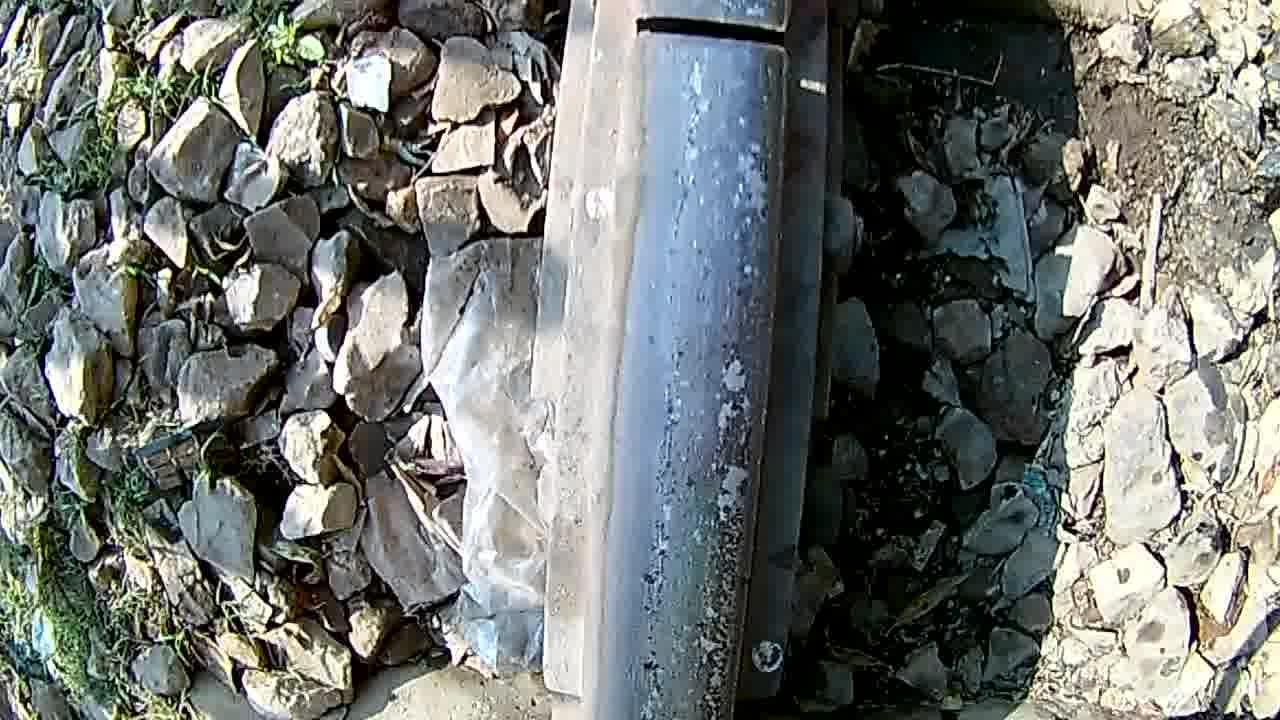crack: (614, 72, 789, 720)
